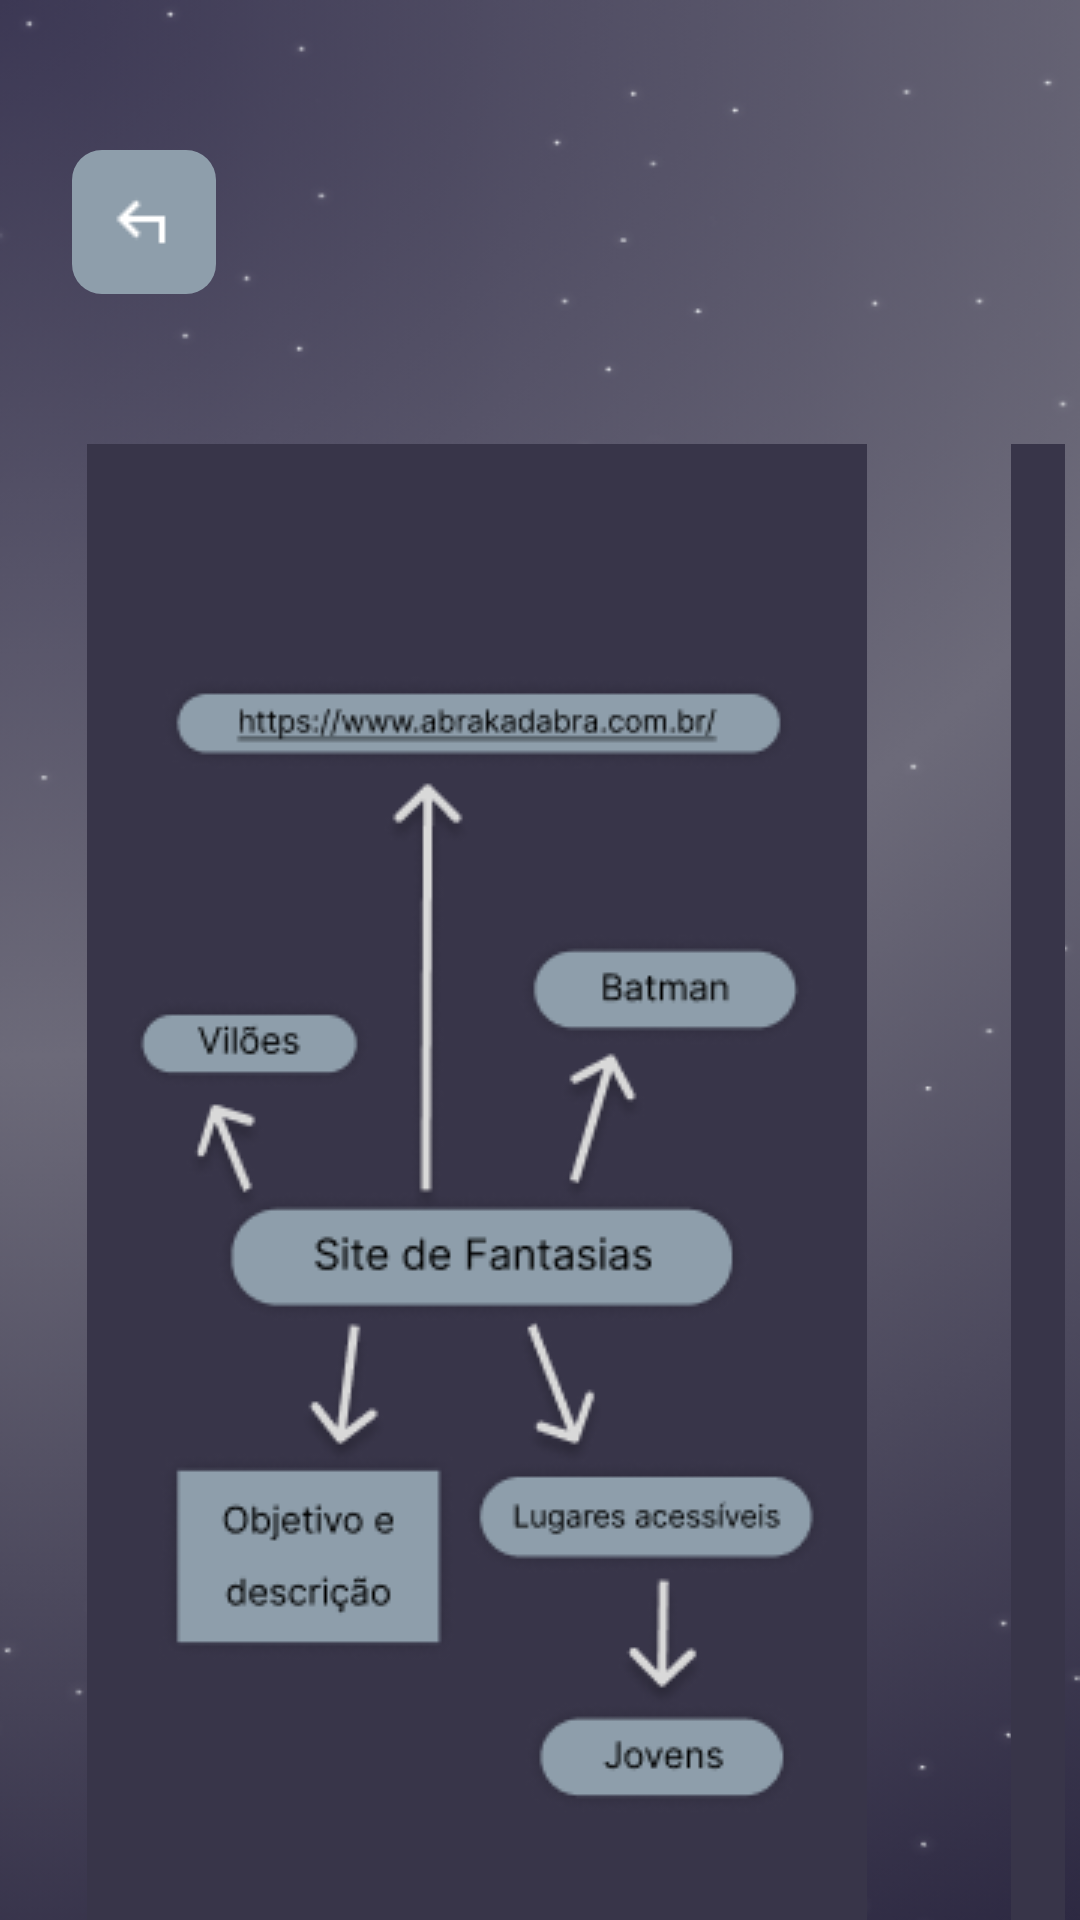

Screen size 1080px×1920px. Icon name, then its center in pixels as (x=x, y=y):
voltar: (x=144, y=222)
